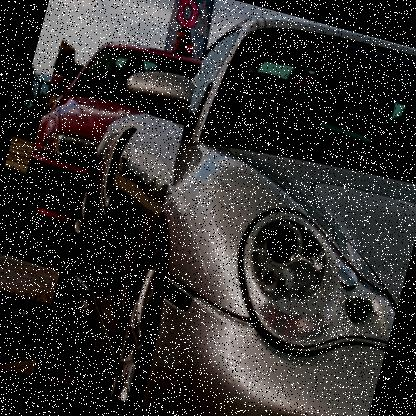Car: (31, 0, 415, 415), (14, 24, 202, 254)
